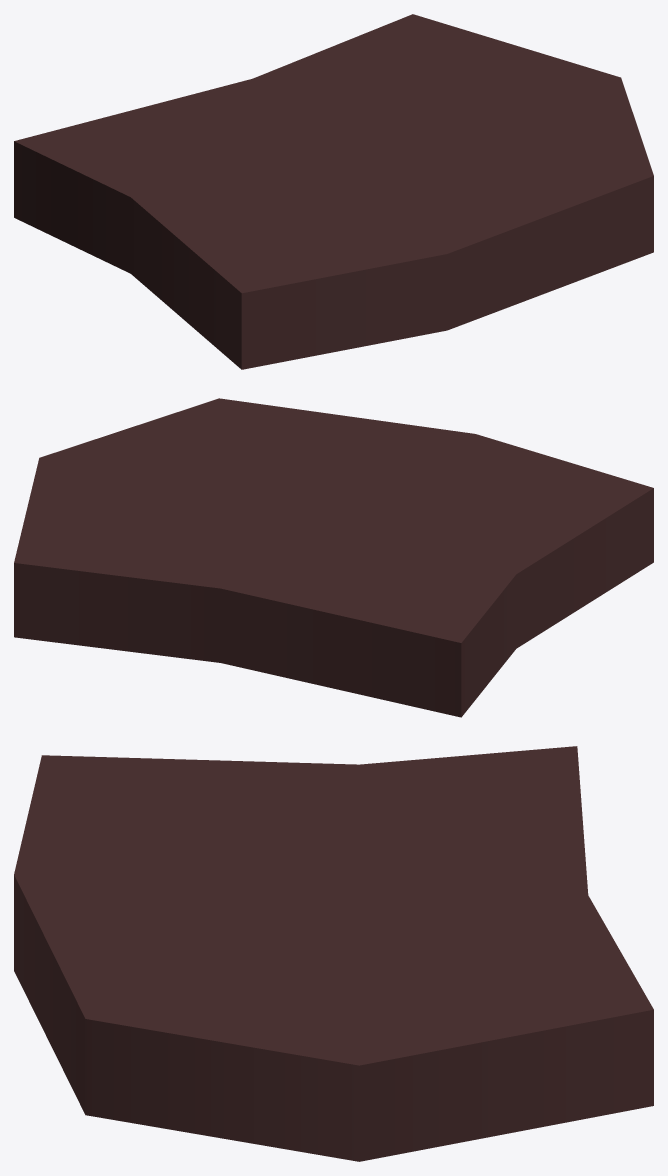
File: Rock1.FBX
The picture shows the model from 3 angles, top to bottom: view 1: azimuth 30°, elevation 25°; view 2: azimuth 150°, elevation 25°; view 3: azimuth 270°, elevation 25°; orthographic projection. The views are drawn at different scales.
Parts seen in each view (by area): view 1: Box001; view 2: Box001; view 3: Box001.
Boxes of the visible parts, x1=… form: Box001: x1=14, y1=14, x2=653, y2=369; Box001: x1=14, y1=398, x2=653, y2=717; Box001: x1=14, y1=746, x2=653, y2=1161.
Size of the model in its own units: 14.17 by 1.99 by 11.99.
